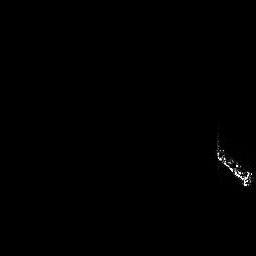ship: (214, 140, 254, 189)
